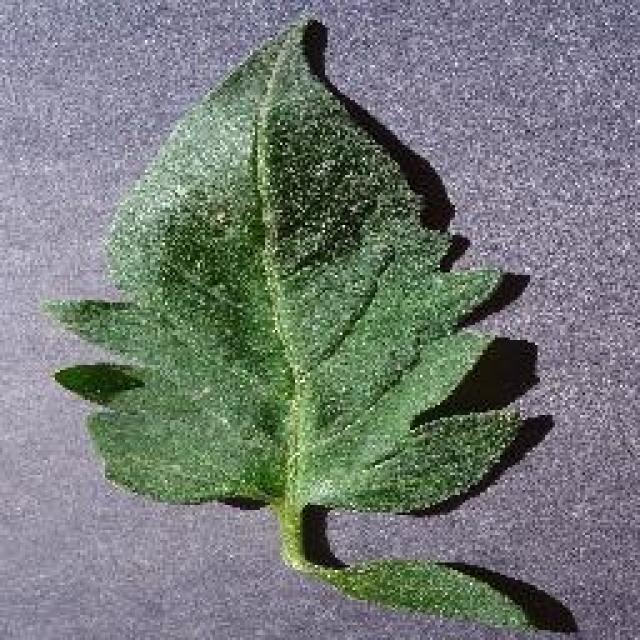Healthy: (38, 2, 578, 640)
